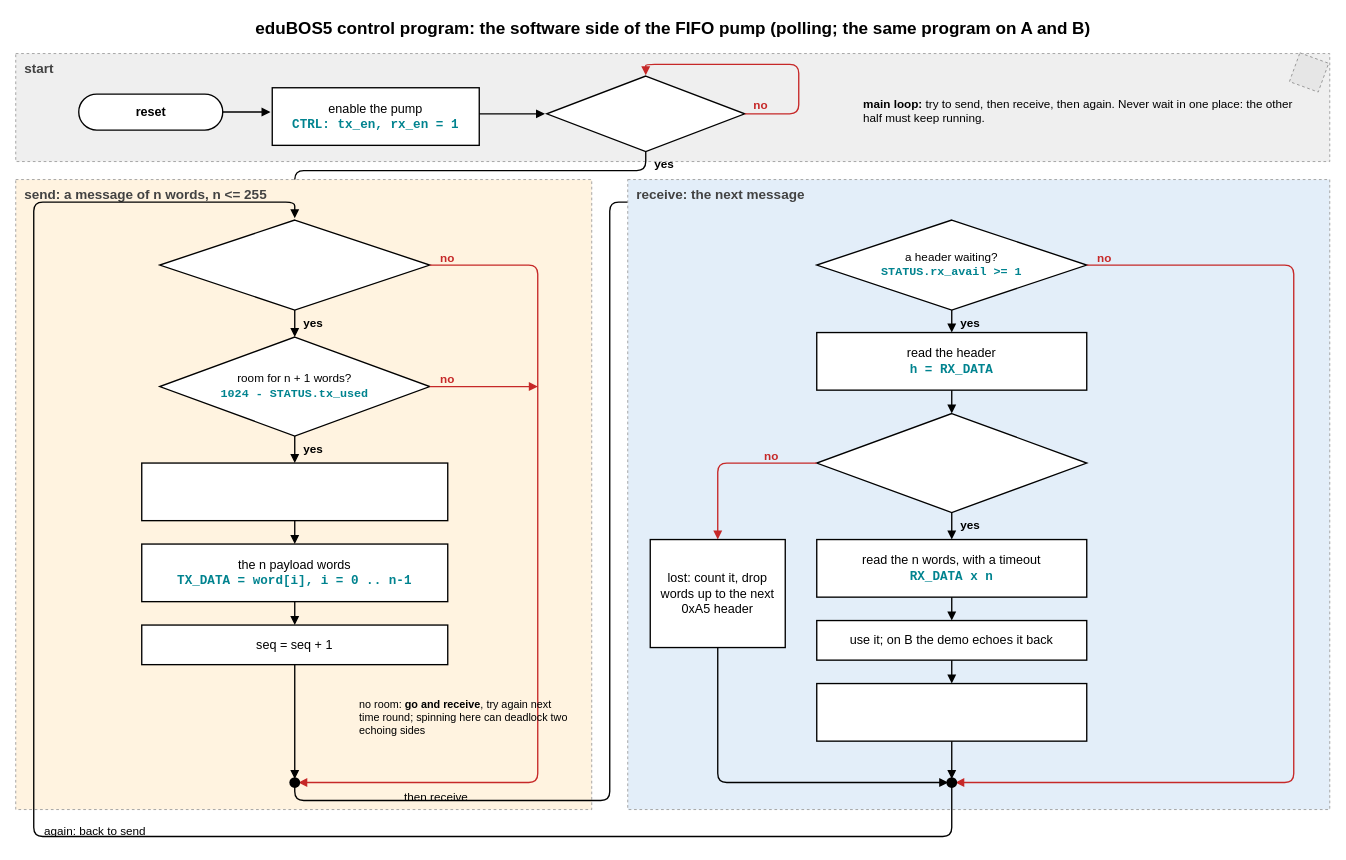
Some shapes in this 1346 by 860 pixel diagram are drawn without their labels. Grey dashed boxes stand in for pictures. Each missing label, with the centre of its shape:
"a message to send?" belongs at pixel 294 264.
"header word: magic, seq, n TX_DATA = {0xA5, seq, 8'h00, n}" belongs at pixel 294 491.
"link up? STATUS.link_up" belongs at pixel 645 113.
"magic 0xA5 and seq as expected?" belongs at pixel 951 462.
"now and then: errors ERRORS: crc_errors, drops, overflows" belongs at pixel 951 711.
